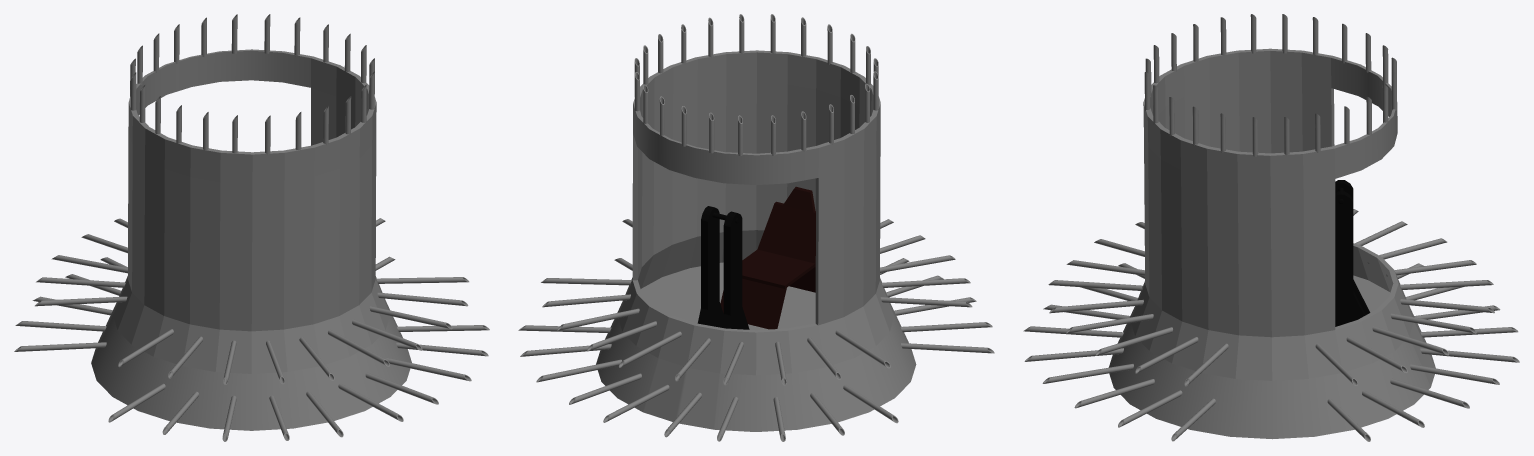
The model's file is Tower_3 lvl 2 cover 2.FBX.
3 renders of one model, left to right at view 1: azimuth 30°, elevation 25°; view 2: azimuth 150°, elevation 25°; view 3: azimuth 270°, elevation 25°, orthographic. The views are drawn at different scales.
Parts seen in each view (by area): view 1: Box008; view 2: Box008; view 3: Box008.
Part boxes in pixels (bbox=[...]): Box008: bbox=[14, 14, 489, 441]; Box008: bbox=[518, 14, 994, 441]; Box008: bbox=[1023, 14, 1519, 441].
Size of the model in its own units: 256 by 282 by 192.
